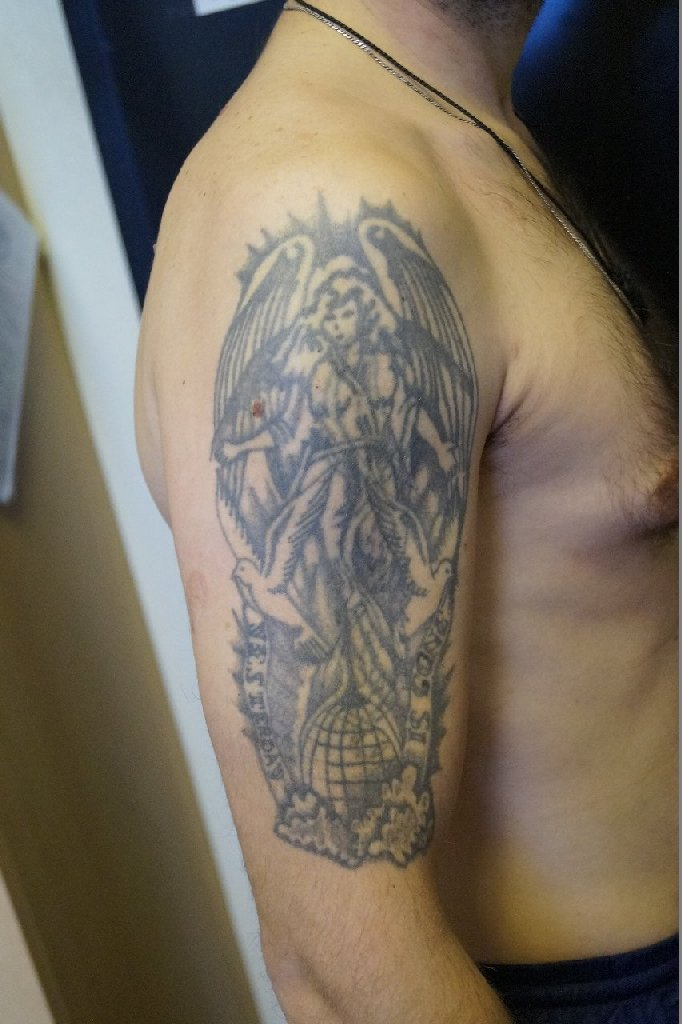tatu1_angel: (216, 224, 471, 560)
tatu3_bukva: (235, 613, 291, 791), (409, 607, 448, 765)
